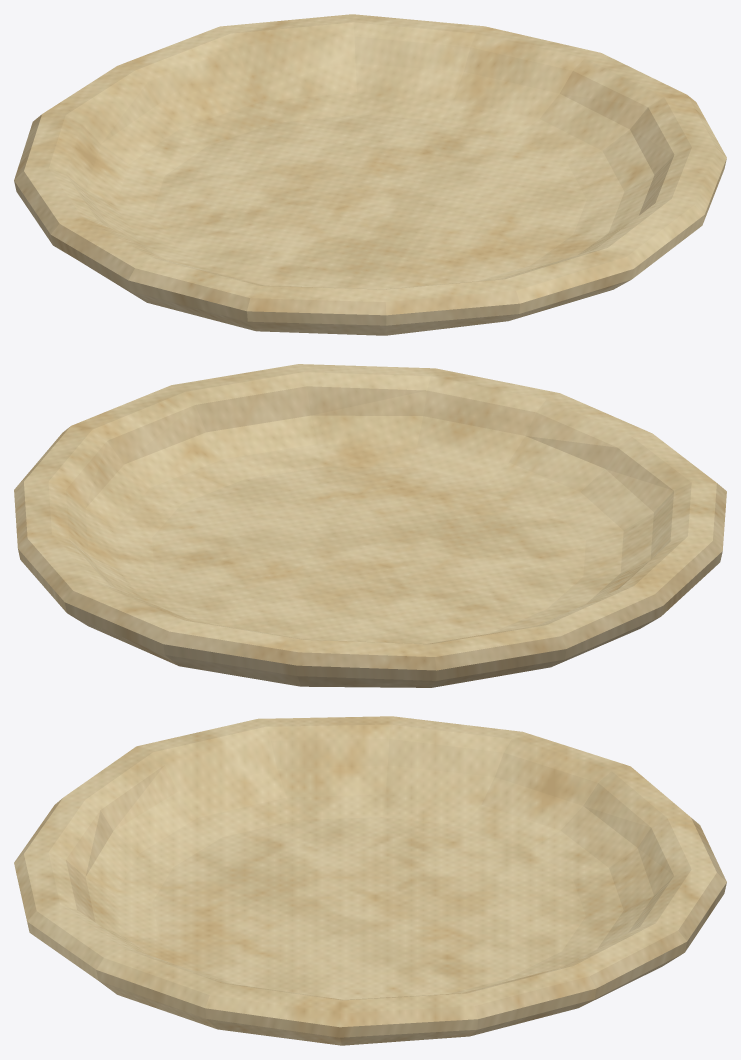
File: Prato.glb
3 renders of one model, top to bottom at view 1: azimuth 30°, elevation 25°; view 2: azimuth 150°, elevation 25°; view 3: azimuth 270°, elevation 25°, orthographic.
Visible parts, largest first — view 1: Face do prato, Borda e pé; view 2: Face do prato, Borda e pé; view 3: Face do prato, Borda e pé.
Part boxes in pixels (bbox=[...]): Face do prato: bbox=[14, 14, 726, 315]; Borda e pé: bbox=[14, 159, 726, 335]; Face do prato: bbox=[14, 364, 726, 670]; Borda e pé: bbox=[18, 549, 722, 687]; Face do prato: bbox=[14, 716, 726, 1027]; Borda e pé: bbox=[16, 872, 726, 1045].
Bounding box in the file's own units: 0.2852 × 0.0361 × 0.2801.
Materials: 1 (1 with a texture image).
